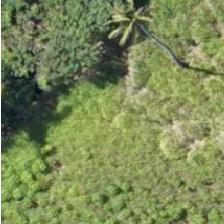coconut_tree: (134, 13, 223, 103)
